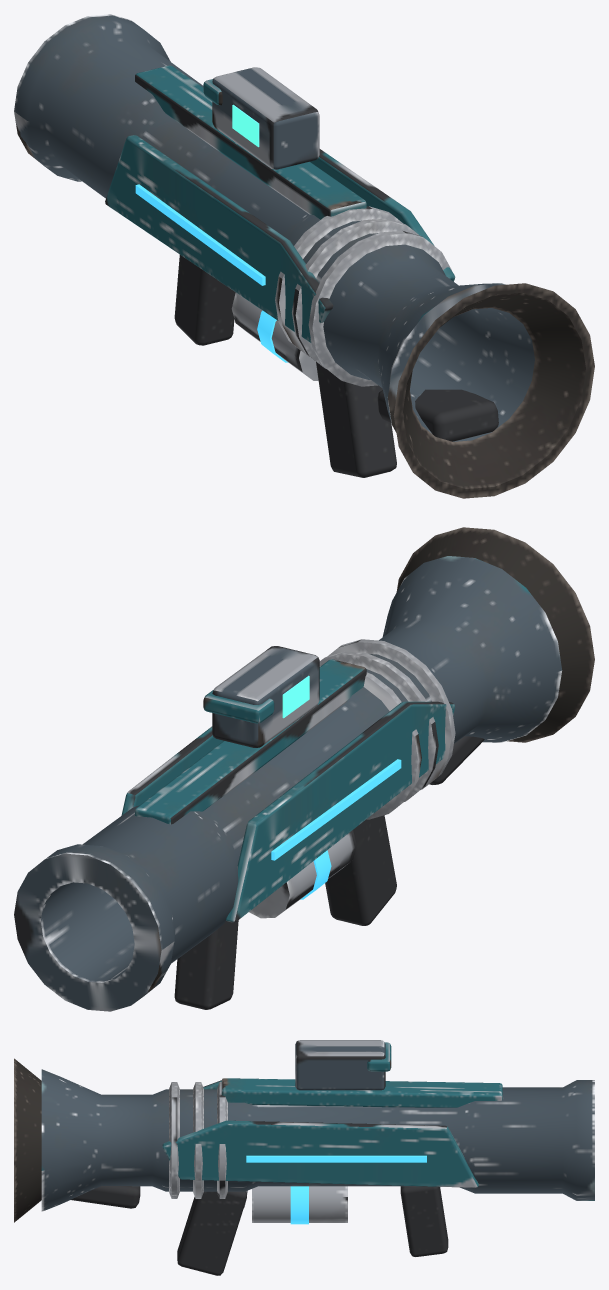
The model's file is javelin-launcher.glb.
3 renders of one model, top to bottom at view 1: azimuth 30°, elevation 25°; view 2: azimuth 150°, elevation 25°; view 3: azimuth 270°, elevation 25°, orthographic. The views are drawn at different scales.
Parts seen in each view (by area): view 1: Launcher_Barrel, Launcher_Venturi, Launcher_Plate_R, Launcher_Rail, Launcher_Sight, Launcher_Grip_Rear, Launcher_Grip_Front, Launcher_Shoulder_Rest, Launcher_Rib_3, Launcher_Rib_2, Launcher_Plate_L, Launcher_Rib_1 (+3 smaller); view 2: Launcher_Barrel, Launcher_Plate_R, Launcher_Venturi, Launcher_Rail, Launcher_Sight, Launcher_Grip_Rear, Launcher_Grip_Front, Launcher_Rib_3, Launcher_Cell, Launcher_Rib_2, Launcher_Plate_L, Launcher_Rib_1 (+4 smaller); view 3: Launcher_Barrel, Launcher_Plate_L, Launcher_Rail, Launcher_Sight, Launcher_Grip_Rear, Launcher_Venturi, Launcher_Cell, Launcher_Grip_Front, Launcher_Accent_L, Launcher_Rib_3, Launcher_Shoulder_Rest, Launcher_Rib_2 (+3 smaller).
Boxes of the visible parts, <box> form: Launcher_Barrel: <box>14,14,534,441</box>; Launcher_Venturi: <box>393,283,594,498</box>; Launcher_Plate_R: <box>105,135,333,342</box>; Launcher_Rail: <box>135,65,366,219</box>; Launcher_Sight: <box>212,67,319,169</box>; Launcher_Grip_Rear: <box>316,362,396,477</box>; Launcher_Grip_Front: <box>174,254,235,345</box>; Launcher_Shoulder_Rest: <box>377,389,498,441</box>; Launcher_Rib_3: <box>308,230,451,386</box>; Launcher_Rib_2: <box>292,218,419,368</box>; Launcher_Plate_L: <box>310,149,455,281</box>; Launcher_Rib_1: <box>275,206,402,356</box>; Launcher_Barrel: <box>14,556,562,1011</box>; Launcher_Plate_R: <box>226,701,454,922</box>; Launcher_Venturi: <box>396,527,594,742</box>; Launcher_Rail: <box>135,659,366,824</box>; Launcher_Sight: <box>212,646,319,747</box>; Launcher_Grip_Rear: <box>325,815,396,925</box>; Launcher_Grip_Front: <box>174,920,238,1009</box>; Launcher_Rib_3: <box>327,639,455,789</box>; Launcher_Cell: <box>249,830,356,918</box>; Launcher_Rib_2: <box>319,651,438,801</box>; Launcher_Plate_L: <box>121,726,223,815</box>; Launcher_Rib_1: <box>319,666,421,819</box>; Launcher_Barrel: <box>41,1069,594,1211</box>; Launcher_Plate_L: <box>162,1120,478,1187</box>; Launcher_Rail: <box>221,1078,502,1107</box>; Launcher_Sight: <box>295,1040,385,1090</box>; Launcher_Grip_Rear: <box>177,1191,246,1275</box>; Launcher_Venturi: <box>14,1058,41,1222</box>; Launcher_Cell: <box>252,1186,347,1222</box>; Launcher_Grip_Front: <box>400,1186,448,1256</box>; Launcher_Accent_L: <box>246,1155,426,1162</box>; Launcher_Rib_3: <box>169,1082,179,1198</box>; Launcher_Shoulder_Rest: <box>70,1186,140,1208</box>; Launcher_Rib_2: <box>193,1082,203,1198</box>.
Bounding box in the file's own units: 0.18 × 0.268 × 0.63.
3 materials, 1 textured.
